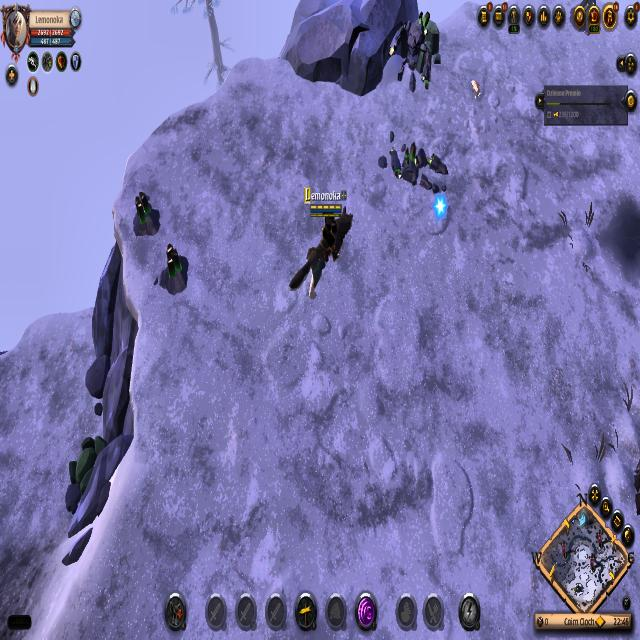ore tier 3: (159, 244, 193, 303), (130, 188, 162, 242)
